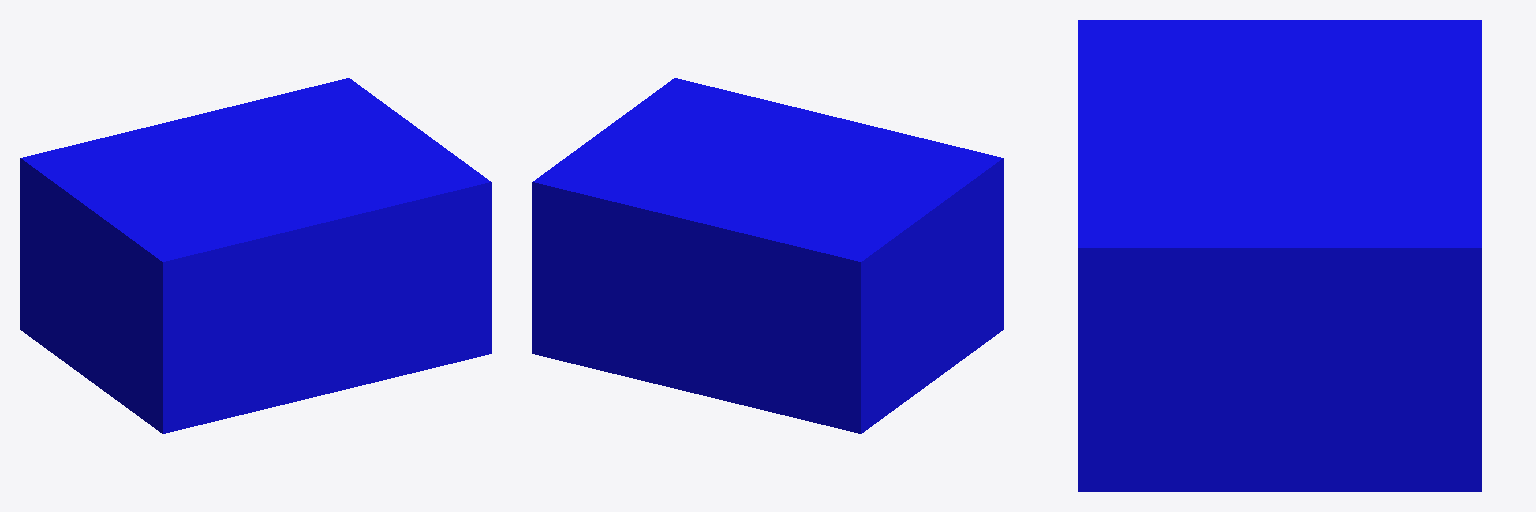
robot.urdf — link_material_robot_def:
<?xml version="1.0"?>
<robot name="link_material_robot_def">
    <!-- ======== 材质定义 ======== -->
    <material name="blue">
        <color rgba="0.1 0.1 1.0 1.0"/>
    </material>
    <link name="base_link">
        <visual>
            <geometry>
                <box size="0.4 0.3 0.2"/>
            </geometry>
            <material name="blue"/>
        </visual>
    </link>
</robot>

--- Render facts (derived) ---
3 views of the same robot in one strip: view 1: azimuth 30°, elevation 25°; view 2: azimuth 150°, elevation 25°; view 3: azimuth 270°, elevation 25° (orthographic).
Model link_material_robot_def with 1 links and 0 joints (none), rooted at base_link, posed all joints at 0.
Links seen in each view (by area): view 1: base_link; view 2: base_link; view 3: base_link.
Boxes of the visible links, <box> form: base_link: <box>20,78,491,433</box>; base_link: <box>532,78,1003,433</box>; base_link: <box>1078,20,1481,491</box>.
Size in the robot's own frame: 0.4 by 0.3 by 0.2 metres.
Geometry: primitives only (box / cylinder / sphere), no mesh files.
